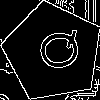Q: (28, 27, 84, 75)
